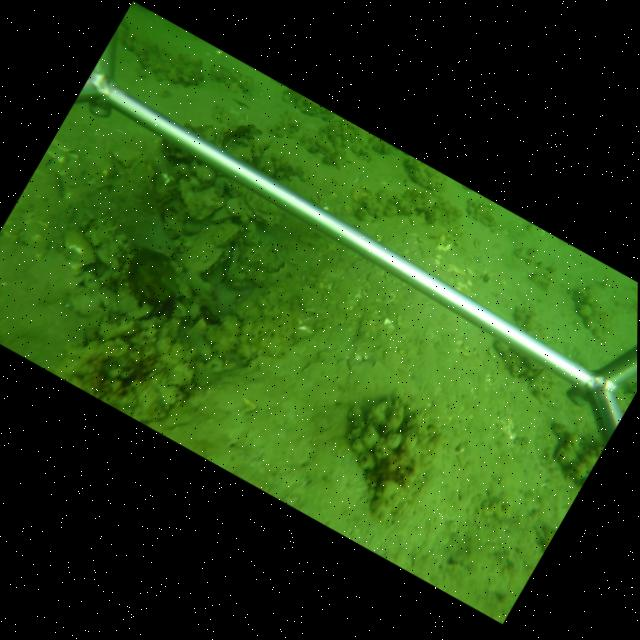Oyster-Closed: (172, 224, 225, 276), (213, 223, 240, 246), (210, 206, 232, 224)
